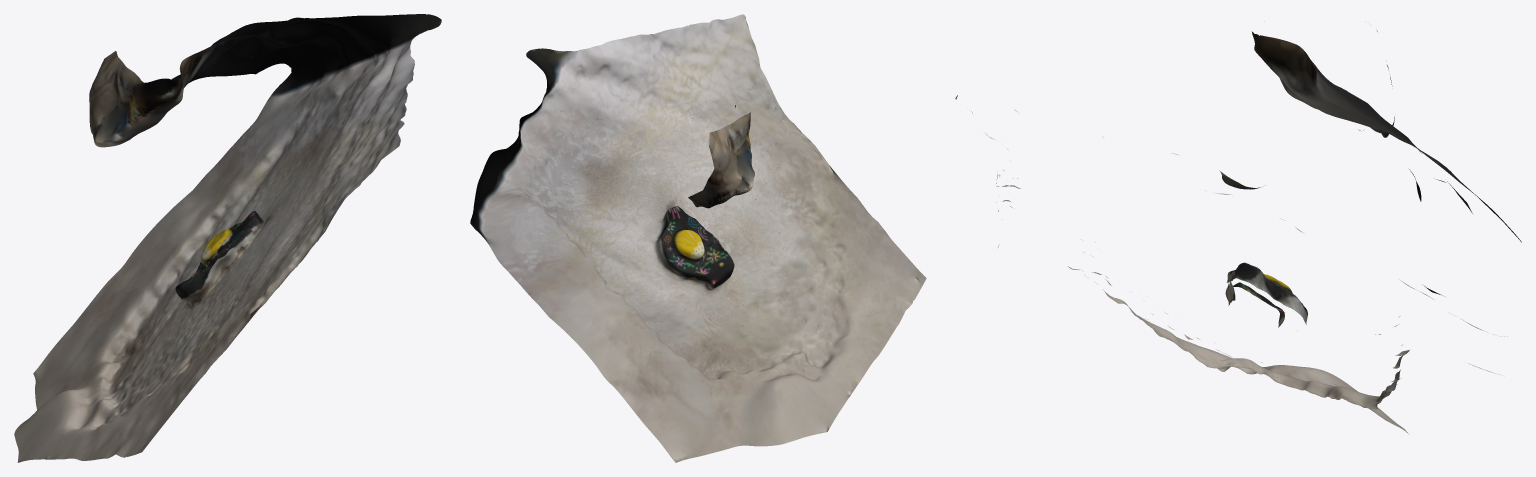
3 renders of one model, left to right at view 1: azimuth 30°, elevation 25°; view 2: azimuth 150°, elevation 25°; view 3: azimuth 270°, elevation 25°, orthographic. The views are drawn at different scales.
Bounding box in the file's own units: 1.49 × 1.3 × 1.47.
1 material, 1 textured.
